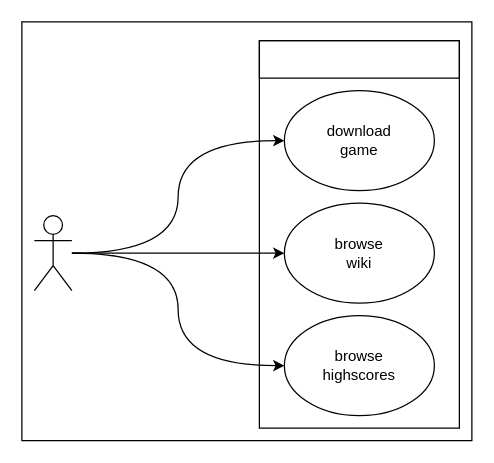
The diagram is 494 pixels wide and 463 high, and some of its shapes have lost their labels. Each missing label, with the centre of its shape:
Player: point (52, 252)
Website: point (358, 58)
